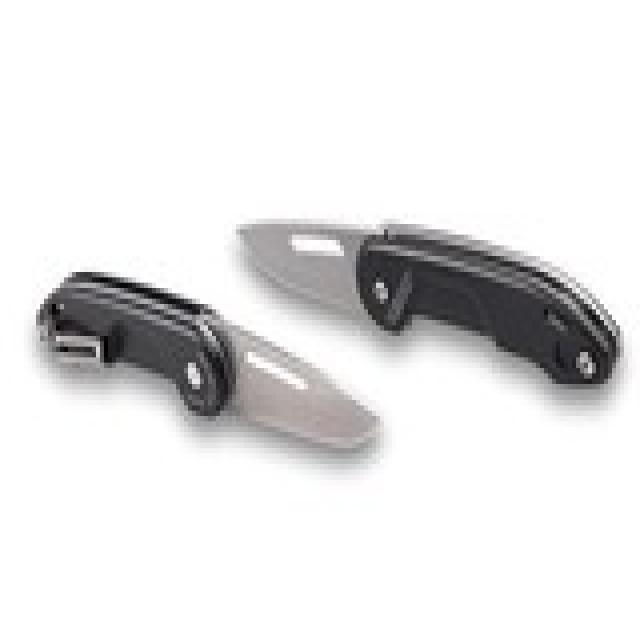Knife: (226, 180, 631, 428), (33, 250, 392, 510)
